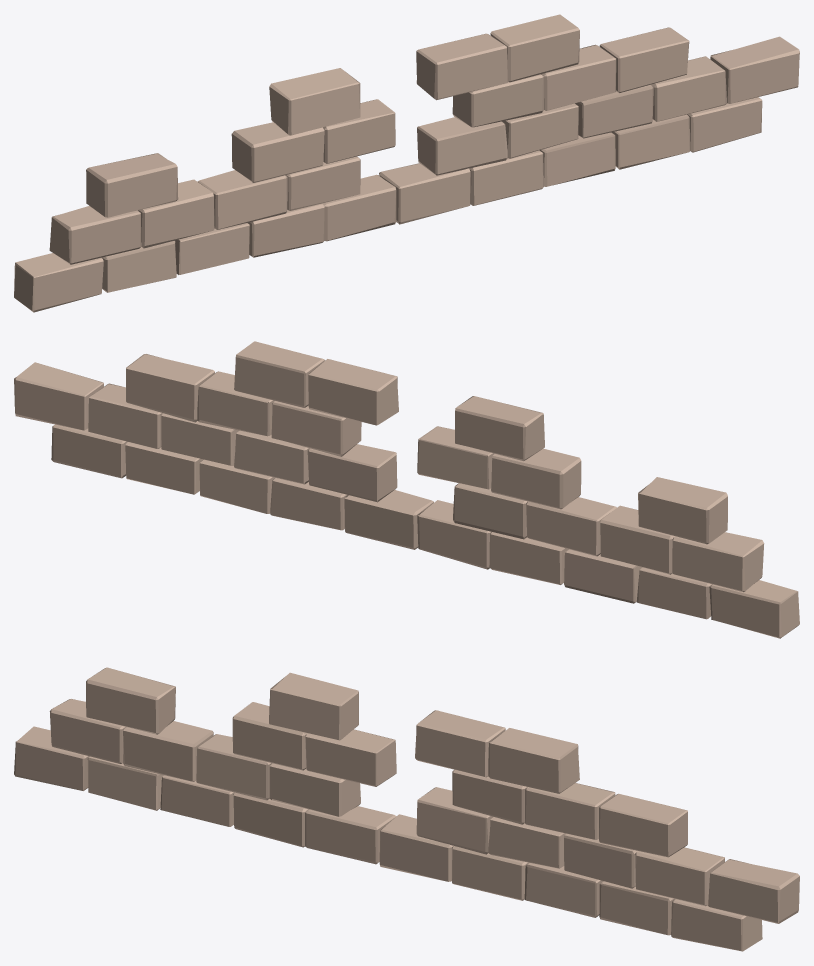
Rendered from BarrenWall2.fbx.
The picture shows the model from 3 angles, top to bottom: view 1: azimuth 30°, elevation 25°; view 2: azimuth 150°, elevation 25°; view 3: azimuth 330°, elevation 25°; orthographic projection.
Parts seen in each view (by area): view 1: BarrenWall2; view 2: BarrenWall2; view 3: BarrenWall2.
Part boxes in pixels (<box>): BarrenWall2: <box>14,14,799,312</box>; BarrenWall2: <box>14,341,799,638</box>; BarrenWall2: <box>14,667,799,951</box>.
Bounding box in the file's own units: 20.99 × 4.03 × 1.05.
